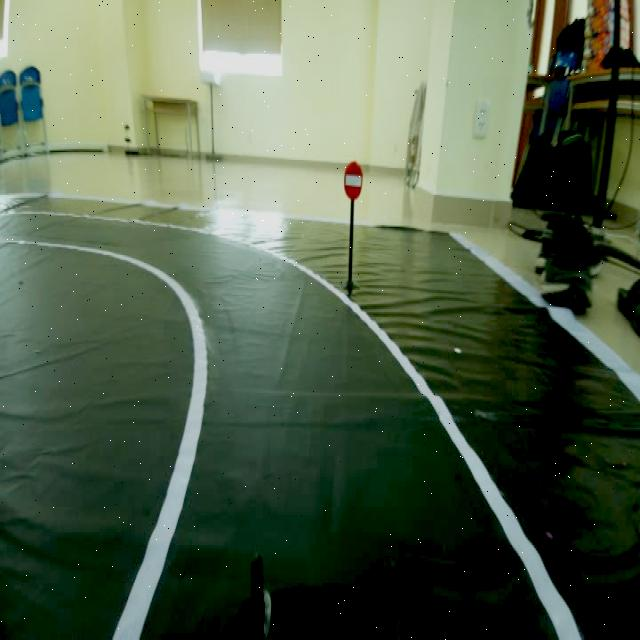no_entry: (341, 154, 367, 206)
